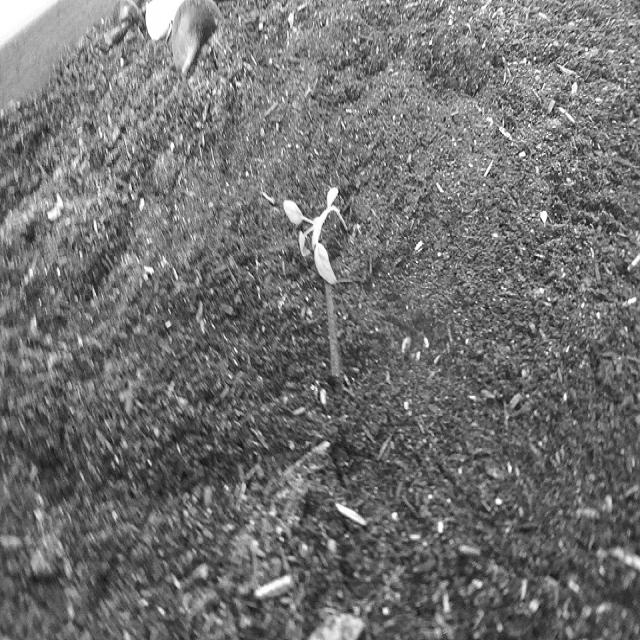Healthy: (278, 183, 354, 291)
